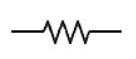resistor: (39, 14, 100, 48)
